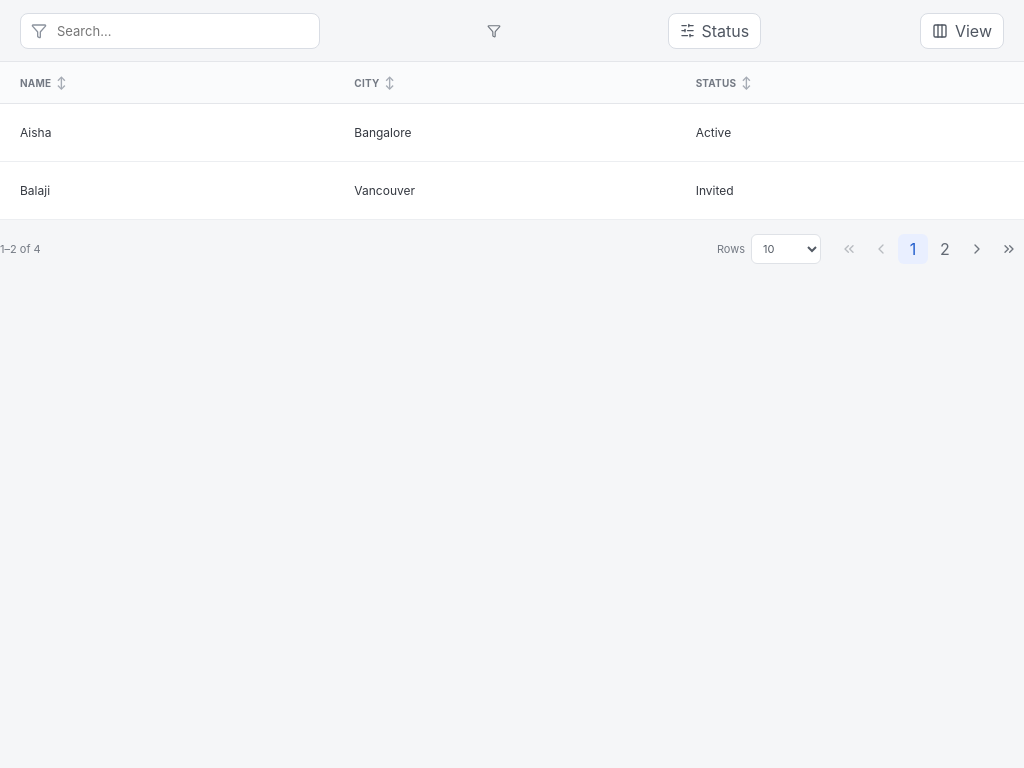
Test: DataTable › supports a header column-filter action
Click the button named "Filter City" at (494, 30), box [479,16,509,46]
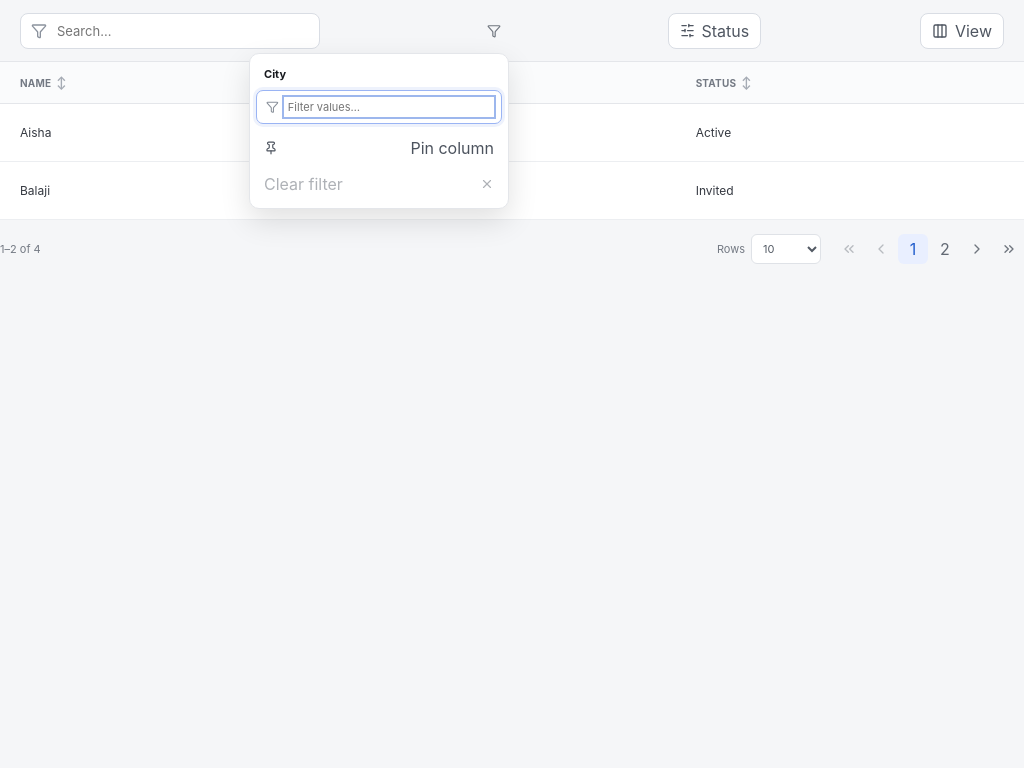
Type "Toronto" into the field with placeholder "Filter values…" at (389, 106), box [286,98,492,114]
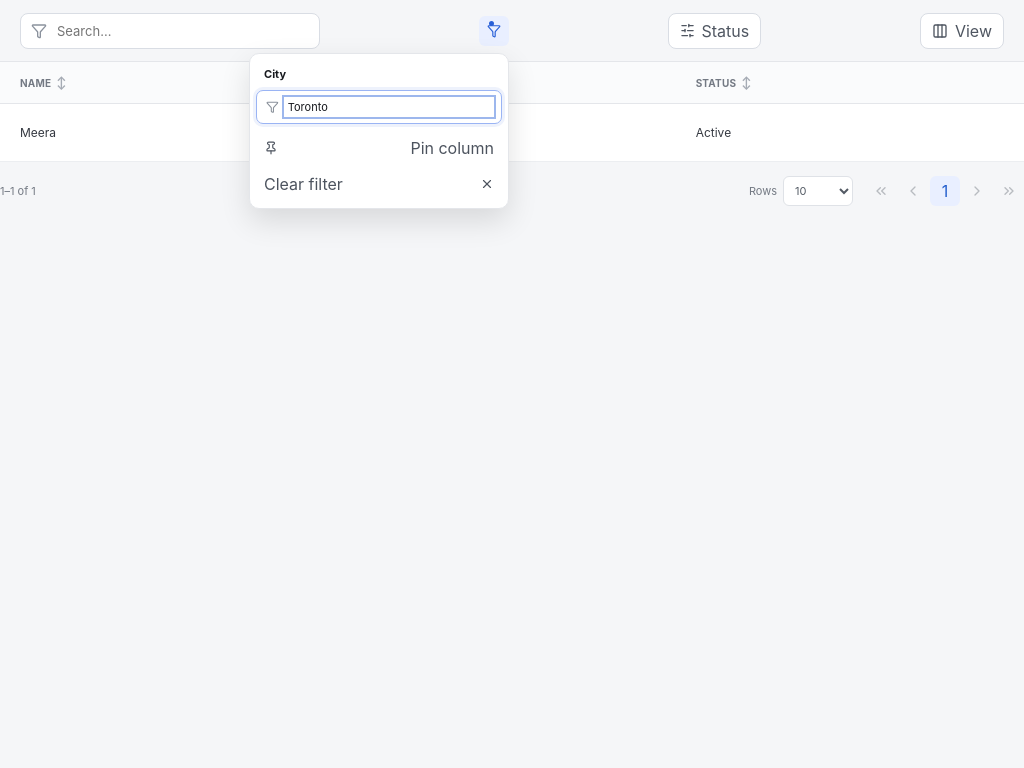
Expected: the text "Meera" is shown, [0,104,341,162]
Expected: the text "Aisha" is gone
